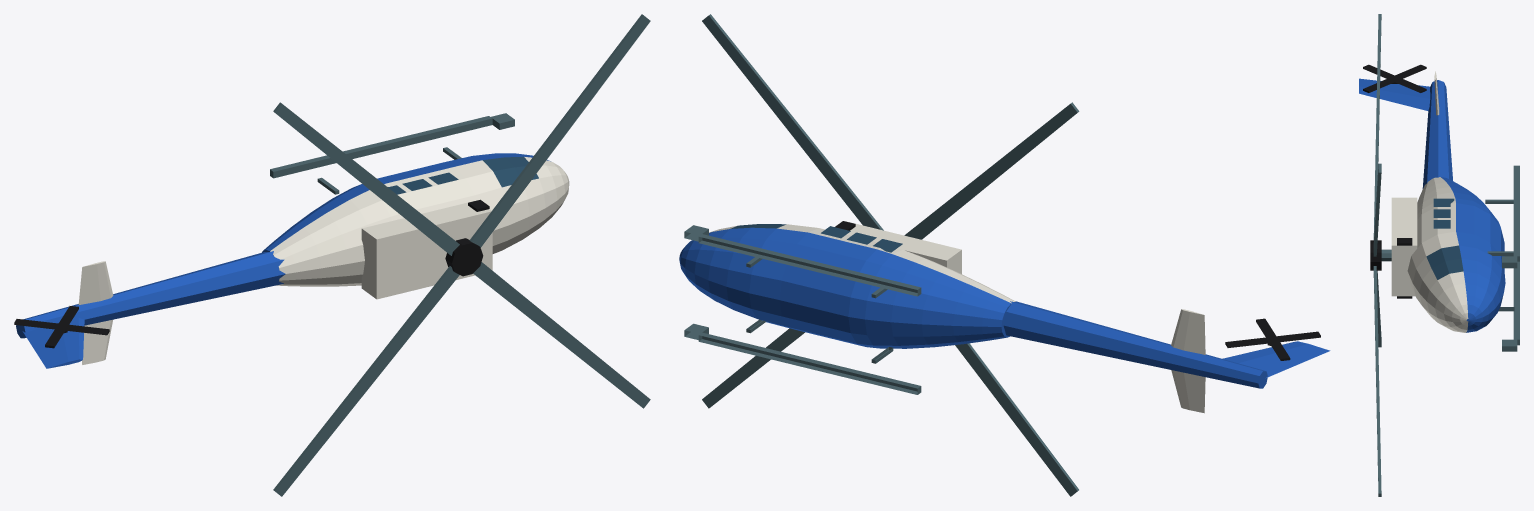
3 renders of one model, left to right at view 1: azimuth 30°, elevation 25°; view 2: azimuth 150°, elevation 25°; view 3: azimuth 270°, elevation 25°, orthographic. The views are drawn at different scales.
Parts seen in each view (by area): view 1: default_cabin, default_engine_cowl, default_boom, default_rotor_blade2, default_rotor_blade0, default_rotor_blade1, default_rotor_blade3, default_skid1, default_tail_fin1, default_stabiliser1, default_rotor_hub, default_stabiliser-1; view 2: default_cabin, default_boom, default_rotor_blade0, default_rotor_blade1, default_skid-1, default_skid1, default_rotor_blade2, default_engine_cowl, default_tail_fin1, default_rotor_blade3, default_stabiliser1, default_stabiliser-1; view 3: default_cabin, default_engine_cowl, default_boom, default_tail_fin1, default_rotor_blade3, default_rotor_blade1, default_skid1, default_skid-1, default_windows1, default_tail_blade0, default_rotor_blade0, default_tail_blade1 (+4 smaller).
Boxes of the visible parts, left/top/right/bottom form: default_cabin: left=262, top=153, right=569, bottom=286; default_engine_cowl: left=361, top=200, right=492, bottom=299; default_boom: left=16, top=251, right=285, bottom=338; default_rotor_blade2: left=273, top=266, right=459, bottom=496; default_rotor_blade0: left=469, top=14, right=650, bottom=247; default_rotor_blade1: left=273, top=102, right=459, bottom=255; default_rotor_blade3: left=473, top=262, right=650, bottom=408; default_skid1: left=270, top=116, right=492, bottom=178; default_tail_fin1: left=22, top=317, right=84, bottom=368; default_stabiliser1: left=78, top=261, right=113, bottom=304; default_rotor_hub: left=445, top=238, right=483, bottom=276; default_stabiliser-1: left=82, top=319, right=112, bottom=364; default_cabin: left=679, top=224, right=1015, bottom=348; default_boom: left=1003, top=301, right=1267, bottom=388; default_rotor_blade0: left=702, top=14, right=883, bottom=230; default_rotor_blade1: left=904, top=102, right=1079, bottom=239; default_skid-1: left=698, top=332, right=921, bottom=394; default_skid1: left=698, top=234, right=921, bottom=296; default_rotor_blade2: left=955, top=343, right=1078, bottom=496; default_engine_cowl: left=846, top=221, right=961, bottom=273; default_tail_fin1: left=1222, top=341, right=1330, bottom=378; default_rotor_blade3: left=702, top=328, right=804, bottom=408; default_stabiliser1: left=1171, top=309, right=1205, bottom=354; default_stabiliser-1: left=1171, top=370, right=1205, bottom=413; default_cabin: left=1407, top=177, right=1505, bottom=332; default_engine_cowl: left=1391, top=197, right=1417, bottom=296; default_boom: left=1422, top=80, right=1452, bottom=188; default_tail_fin1: left=1359, top=78, right=1430, bottom=110; default_rotor_blade3: left=1373, top=266, right=1381, bottom=496; default_rotor_blade1: left=1373, top=14, right=1381, bottom=239; default_skid1: left=1513, top=165, right=1519, bottom=261; default_skid-1: left=1513, top=261, right=1519, bottom=345; default_windows1: left=1433, top=198, right=1454, bottom=228; default_tail_blade0: left=1363, top=64, right=1426, bottom=92; default_rotor_blade0: left=1373, top=163, right=1381, bottom=256; default_tail_blade1: left=1363, top=64, right=1426, bottom=92.
Size of the model in its own units: 11.8 by 7.21 by 3.15.
